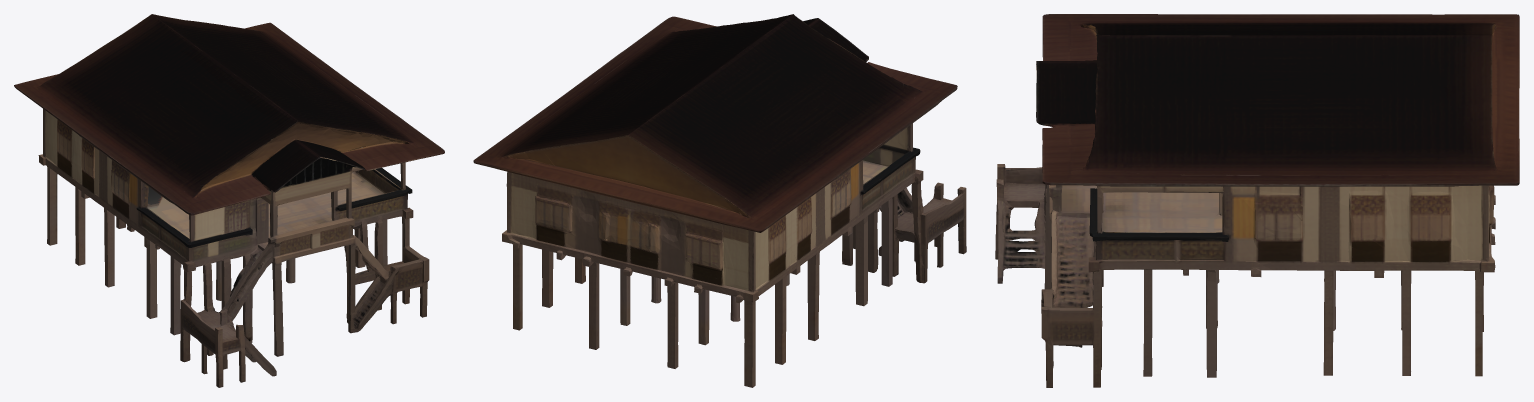
File: sulawesi-utara.glb
The picture shows the model from 3 angles, left to right: view 1: azimuth 30°, elevation 25°; view 2: azimuth 150°, elevation 25°; view 3: azimuth 270°, elevation 25°; orthographic projection. The views are drawn at different scales.
Visible parts, largest first — view 1: world; view 2: world; view 3: world.
Part boxes in pixels (box(x1,y1,x2,y2)): world: box(14, 14, 444, 387); world: box(473, 14, 966, 387); world: box(995, 14, 1519, 387).
Bounding box in the file's own units: 0.5343 × 0.4222 × 0.698.
Materials: 1 (1 with a texture image).
